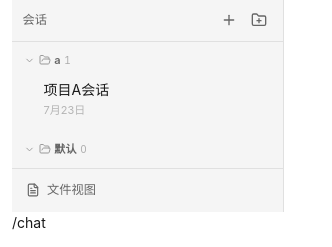
Test case: SessionList › clicking a group row collapses its sessions
The width and height of the screenshot is (332, 247).
Expected: the text "项目A会话" is shown, [44,79,109,100]
Click the button named "分组 a". click: coordinates (48, 60)
box: [24,53,71,67]
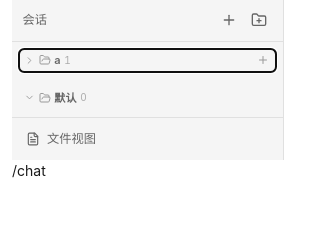
Expected: the button "项目A会话" is gone
